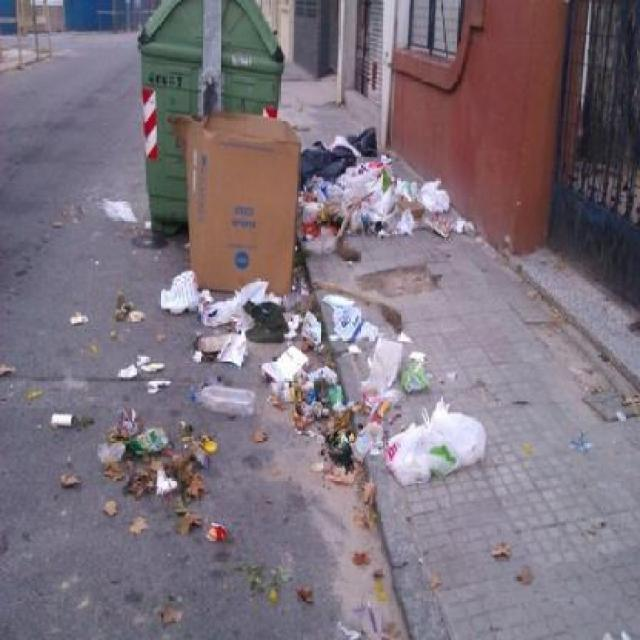garbage: (297, 133, 443, 256), (326, 278, 423, 434), (166, 259, 302, 358), (282, 346, 349, 452), (381, 414, 486, 481)
